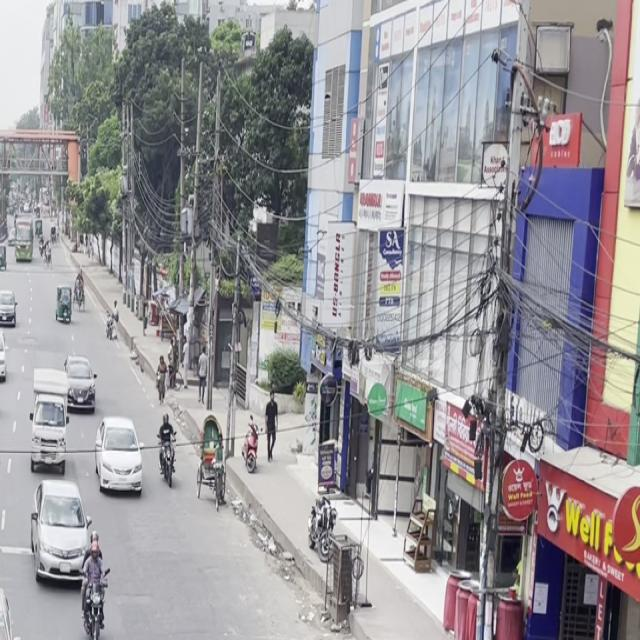car: (27, 473, 93, 595), (93, 412, 148, 504), (26, 371, 70, 475), (62, 347, 99, 417), (0, 572, 27, 640)
motorbike: (74, 530, 117, 640), (156, 414, 180, 492)
rickshaw: (0, 344, 2, 427)
